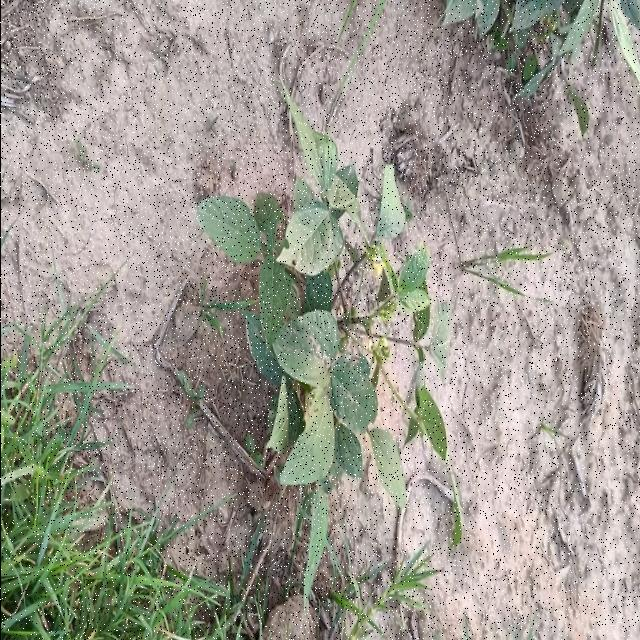plant: (197, 82, 462, 599)
